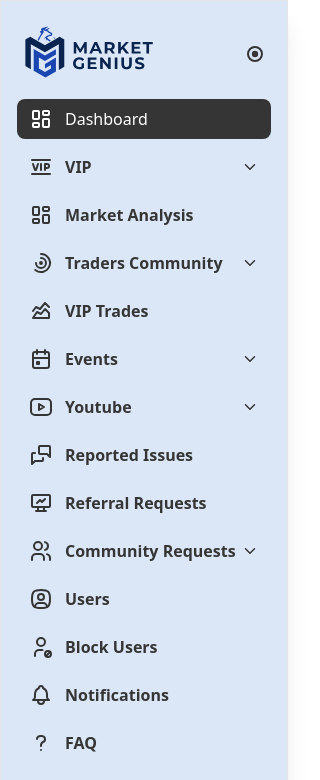
Sidebar revenue links › shows only All Payments to an operator without revenue:read
What coordinates should you click on to do the following:
click the link "VIP"
I would click on:
 (41, 167)
Its box is [17,147,271,187].
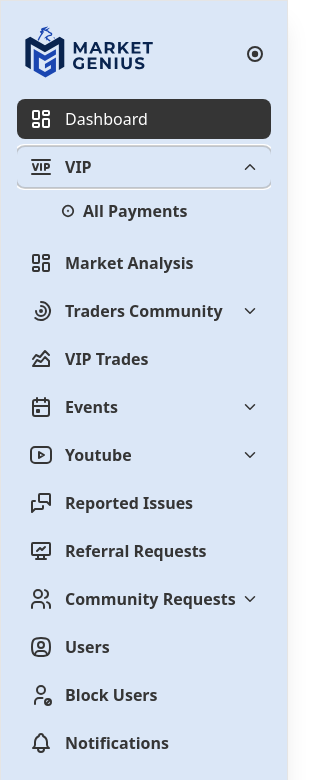
Expected: the text "All Payments" is shown, [61,199,187,223]
